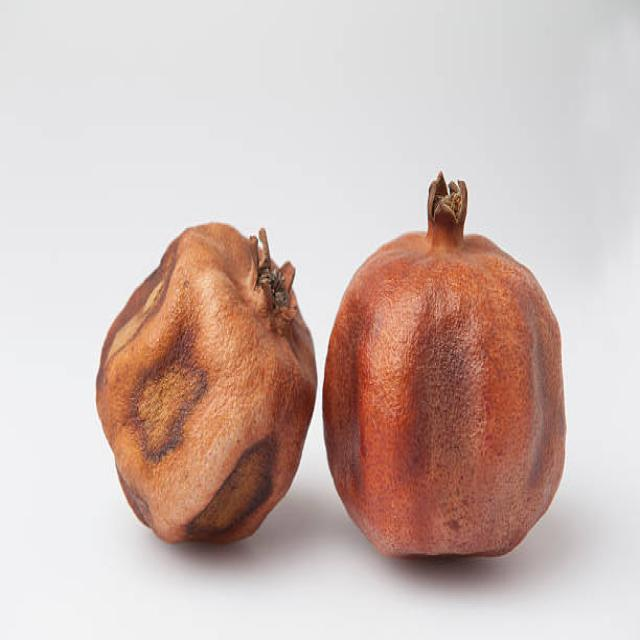overripe: (324, 166, 570, 561), (95, 213, 317, 554)
